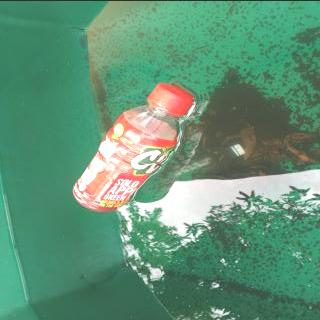bottle: (71, 81, 195, 212)
